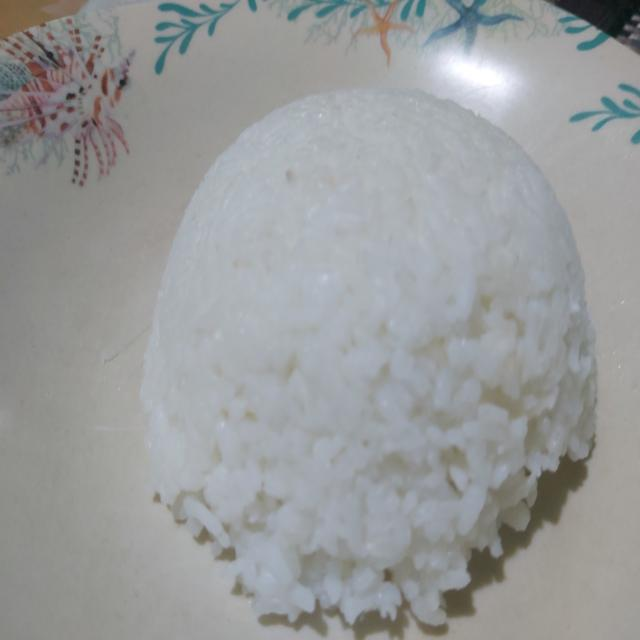Chicken -Chicken Inasal-: (135, 77, 602, 592)
